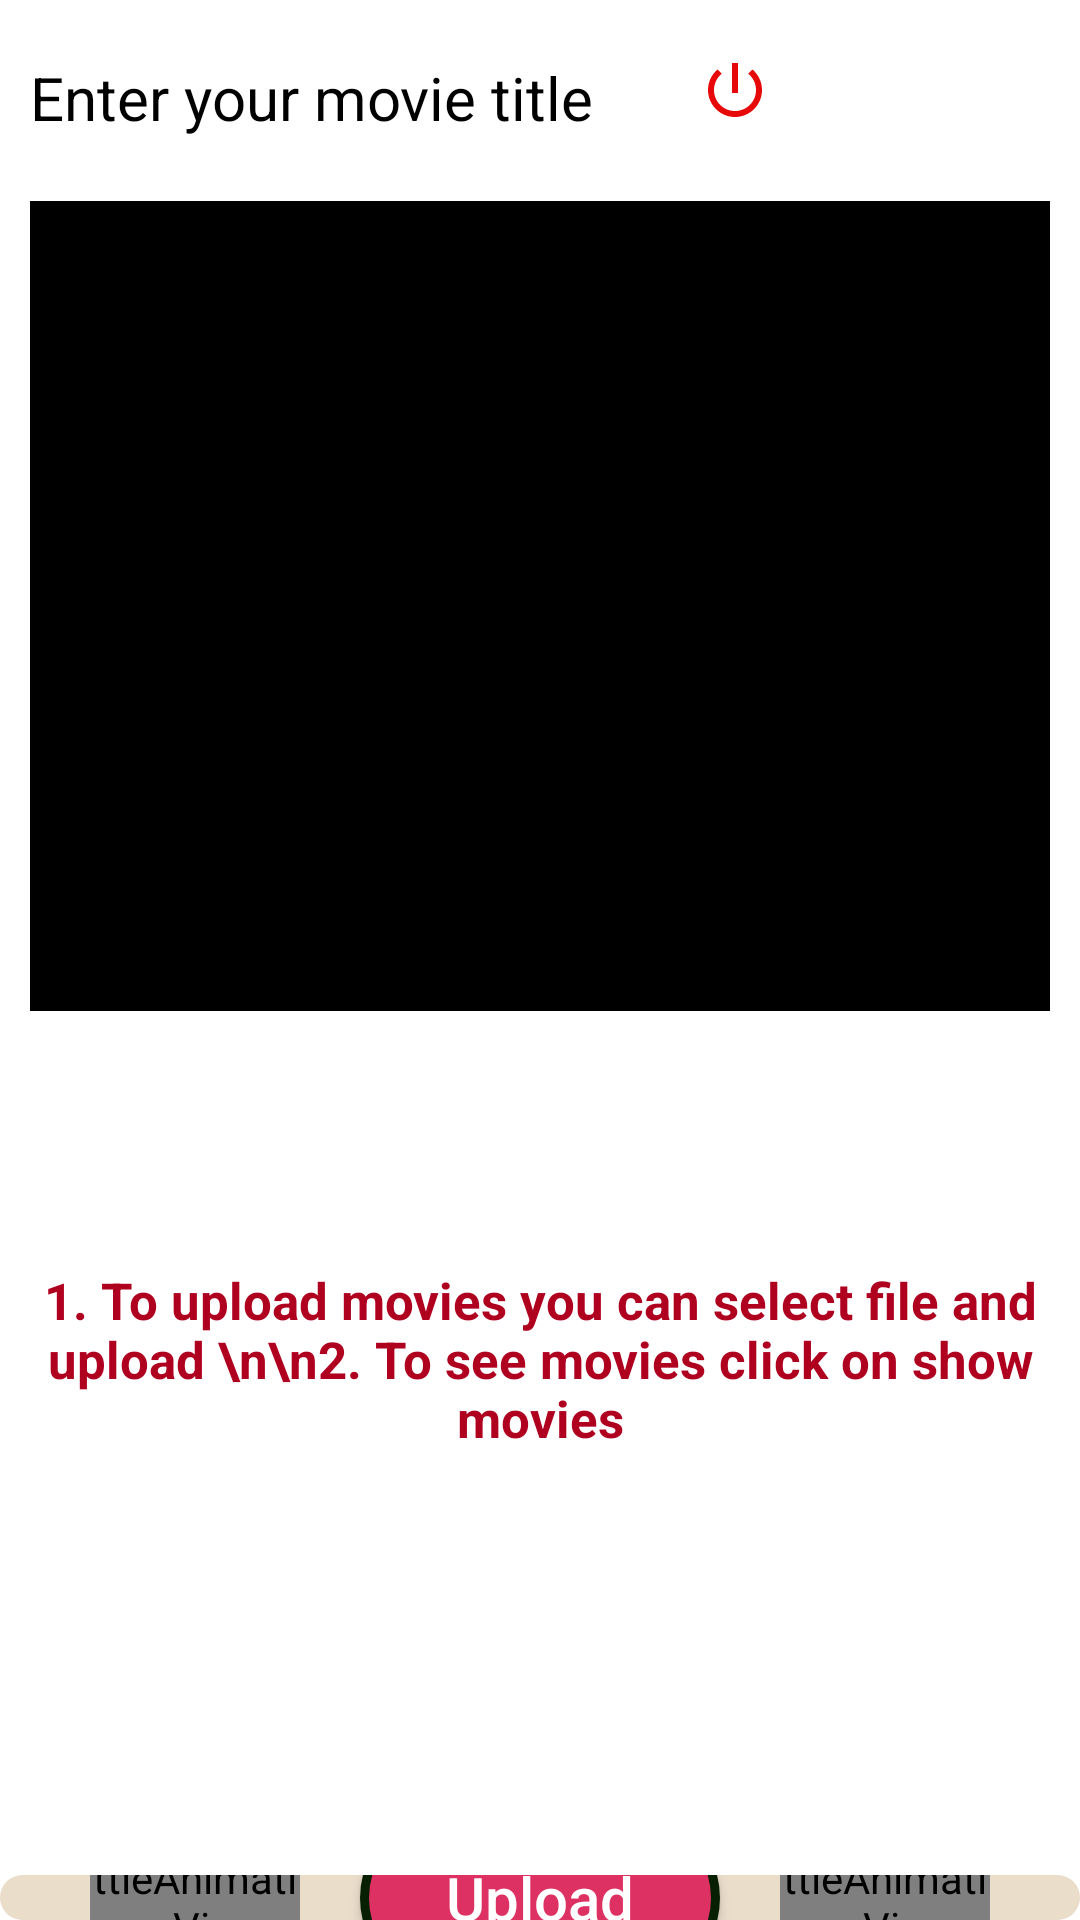

Icons on this 1080w x 1920h Android screen, each with its box as region(x1, y1, x2, y2):
power: region(708, 63, 762, 117)
